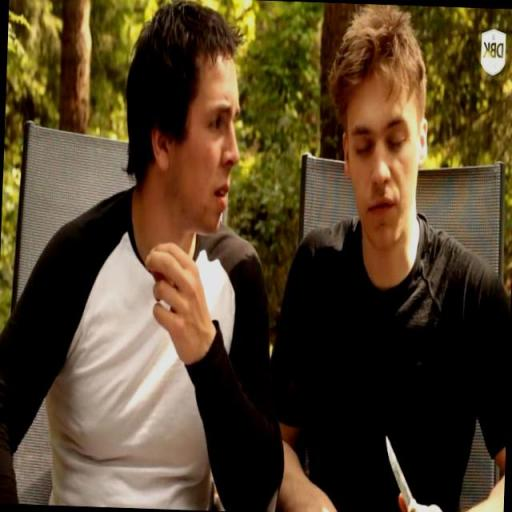knife: (382, 429, 422, 512)
